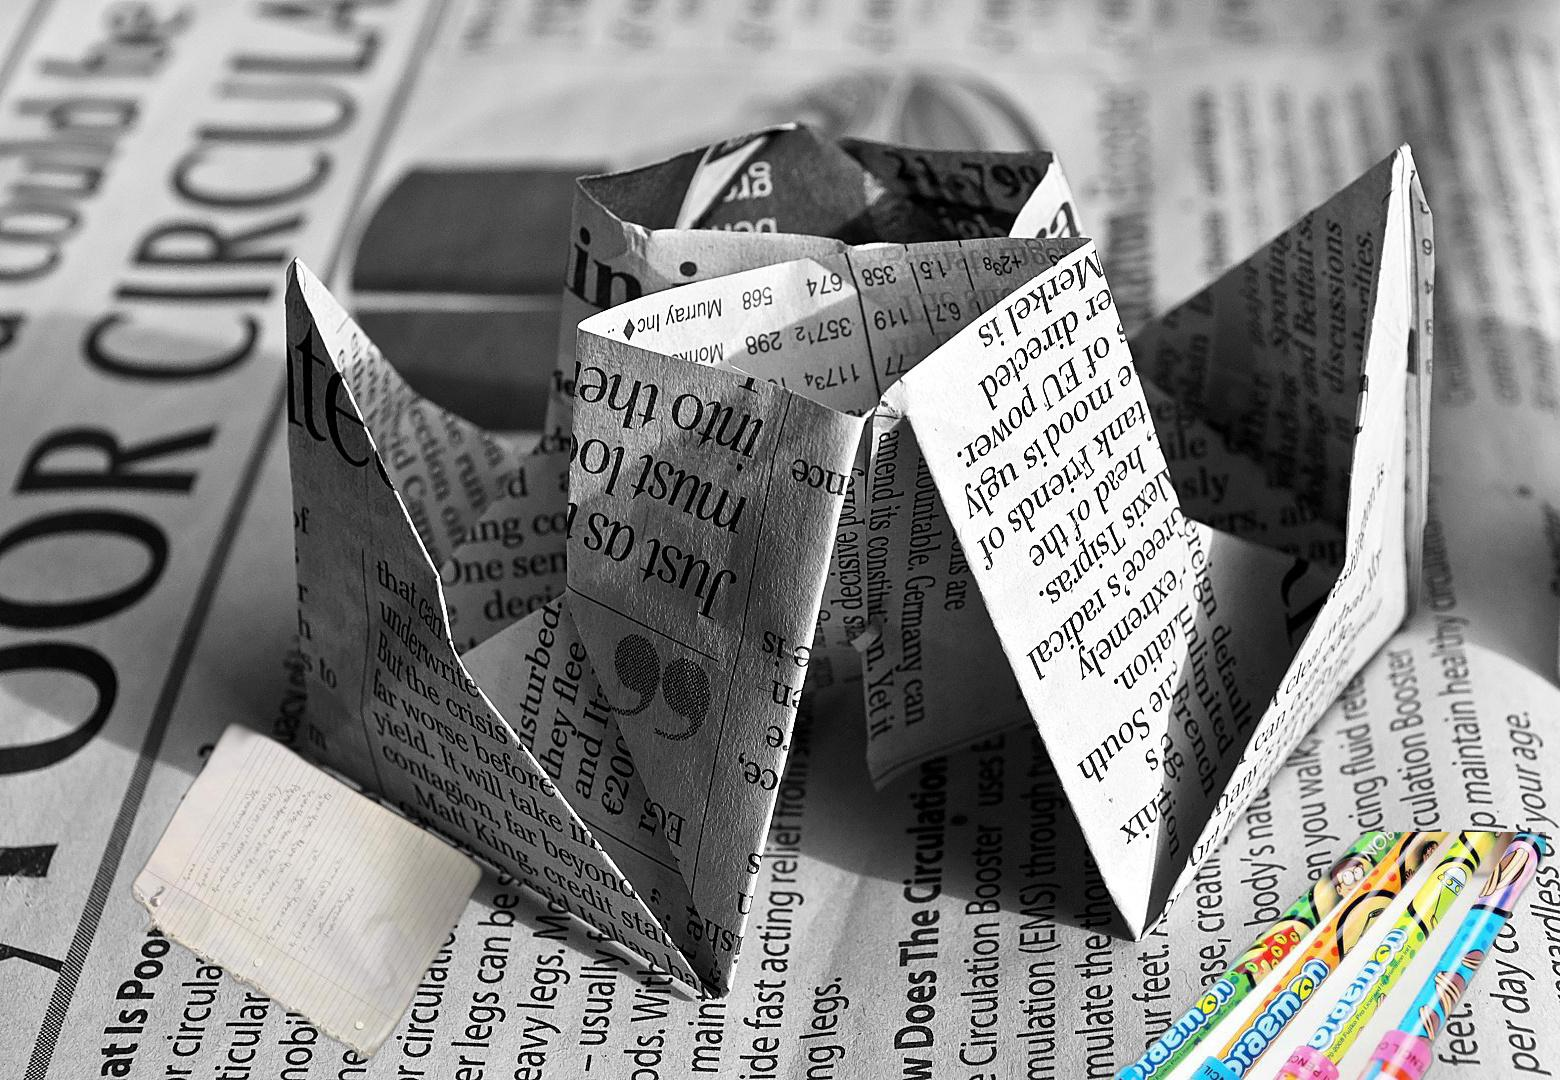paper: (128, 712, 490, 1065)
penholder: (946, 832, 1546, 1080)
